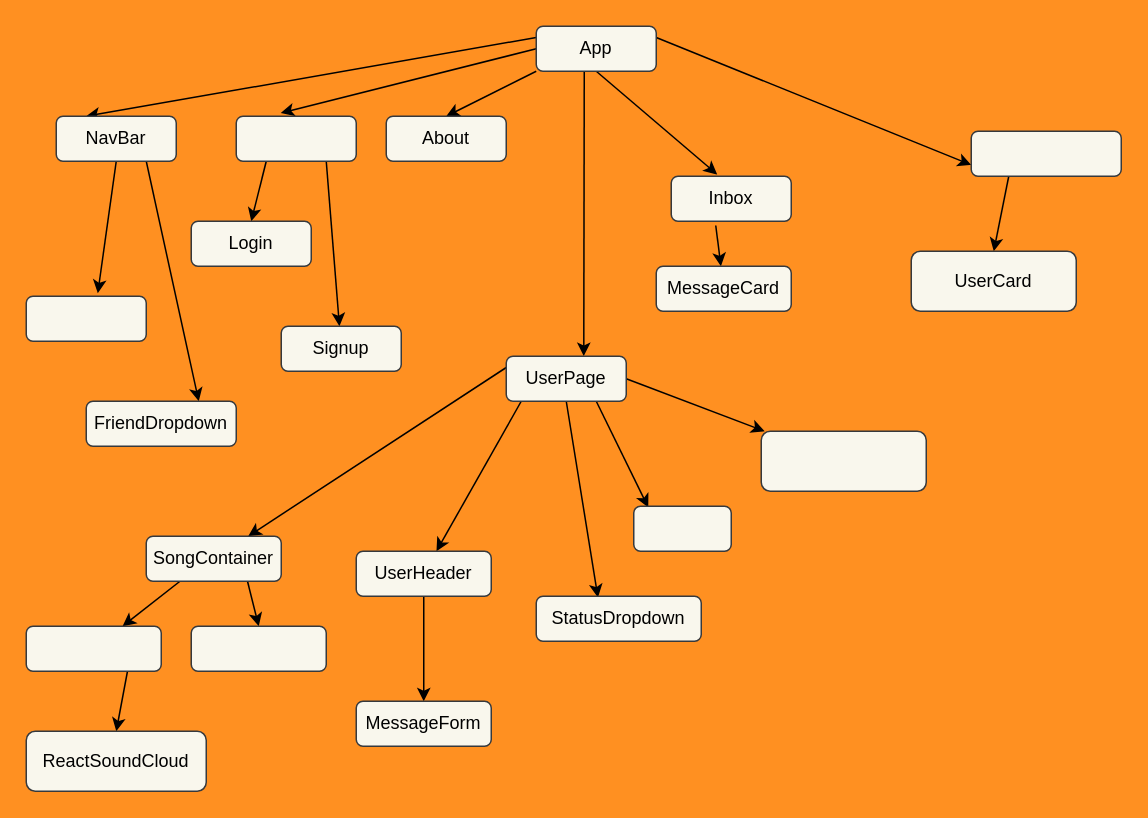
This 1148x818 diagram has some shape labels left out. The shapes that lost their labels are listed below. From the top down, each one's centre as x and y in pixels, then its label:
At pixel 295 138: "Home".
At pixel 1045 153: "SearchResults".
At pixel 85 318: "SearchBar".
At pixel 843 460: "NonBasedAvatar".
At pixel 681 528: "Avatar".
At pixel 93 648: "SongCard".
At pixel 258 648: "SongForm".
